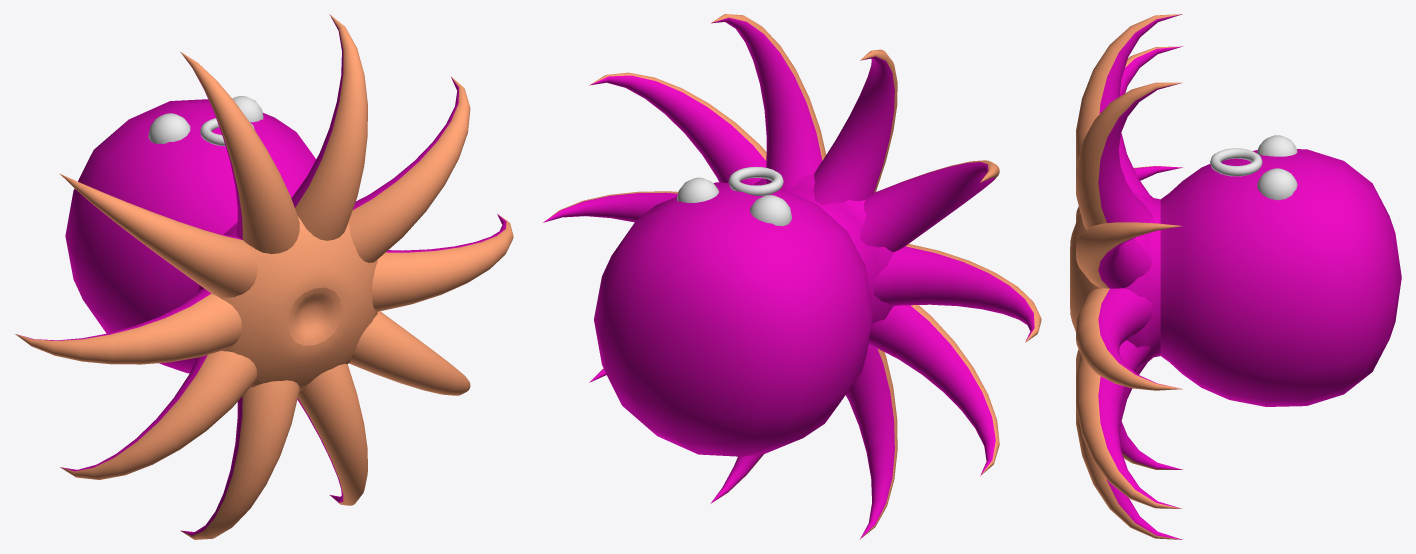
Rendered from OCTOSAUR.glb.
The picture shows the model from 3 angles, left to right: view 1: azimuth 30°, elevation 25°; view 2: azimuth 150°, elevation 25°; view 3: azimuth 270°, elevation 25°; orthographic projection. The views are drawn at different scales.
Parts seen in each view (by area): view 1: OCTOID; view 2: OCTOID; view 3: OCTOID.
Part boxes in pixels (bbox=[...]): OCTOID: bbox=[15, 14, 513, 539]; OCTOID: bbox=[543, 14, 1041, 539]; OCTOID: bbox=[1070, 14, 1401, 539].
Bounding box in the file's own units: 0.869 × 0.8275 × 0.544.
